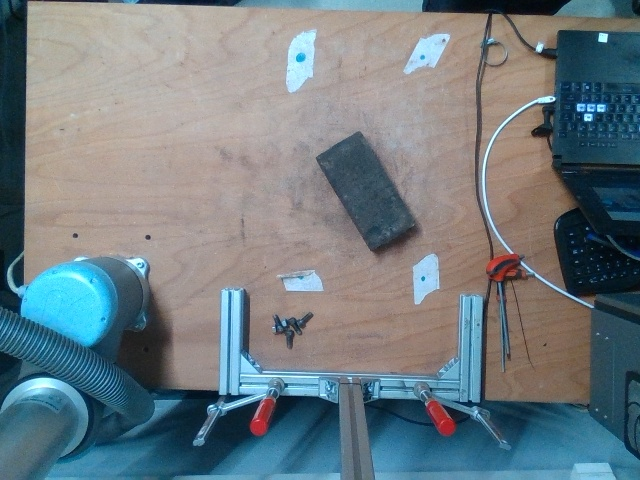brick: (316, 132, 415, 252)
